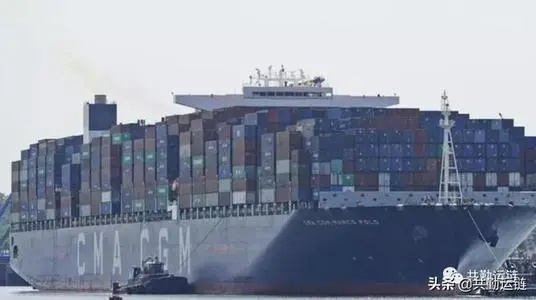Cargoship: (6, 63, 536, 296)
otherboat: (111, 256, 194, 297)
